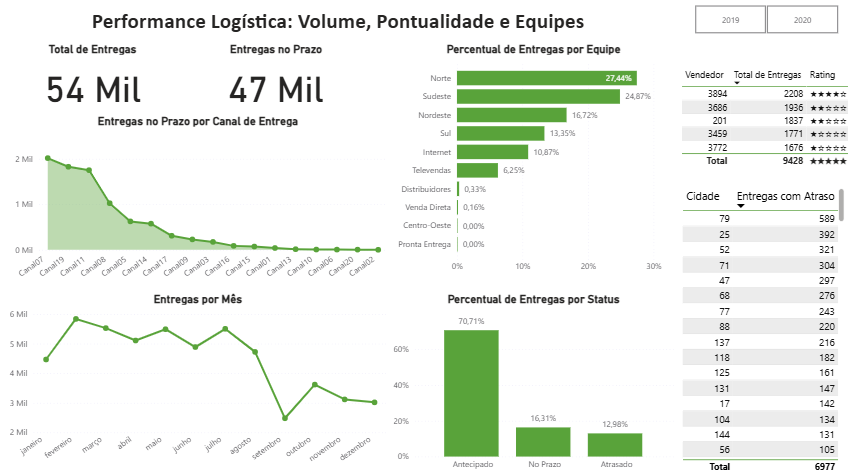

This screenshot's page, from the dashboard's own definition file:
{"tool":"powerbi","page":{"name":"Dashboard","canvas":[1280,720],"ordinal":0},"visuals":[{"type":"areaChart","title":"Entregas no Prazo por Canal de Entrega","fields":{"Category":["Logistica.Canal_Entrega"],"Y":["Medidas.TotalEntregas"]},"box":[12.4,179.8,573.4,265],"z":0},{"type":"barChart","title":"Percentual de Entregas por Equipe","fields":{"Category":["Logistica.Equipe_Entrega"],"Y":["Medidas.TotalEntregas"]},"box":[585.8,71.3,429.2,353.3],"z":1000},{"type":"lineChart","title":"Entregas por Mês","fields":{"Category":["Logistica.Data_Entrega_Realizada.Variation.Hierarquia de datas.Mês"],"Y":["Medidas.TotalEntregas"]},"box":[12.4,444.7,573.4,275.8],"z":2000},{"type":"tableEx","fields":{"Values":["Logistica.ID_Vendedor","Medidas.TotalEntregas","Medidas.Classificação por estrelas TotalEntregas"]},"box":[1015.8,106.1,264.4,179.3],"z":3000},{"type":"tableEx","fields":{"Values":["Logistica.ID_Cidade","Medidas.TotalEntregas"]},"box":[1017.3,285.3,252.4,434.7],"z":4000},{"type":"columnChart","title":"Percentual de Entregas por Status","fields":{"Category":["Logistica.Status_Entrega"],"Y":["Medidas.TotalEntregas"]},"box":[585.8,444.7,429.2,275.8],"z":5000},{"type":"card","title":"Total de Entregas","fields":{"Values":["Medidas.TotalEntregas"]},"box":[12.4,71.3,258.8,108.5],"z":6000},{"type":"card","title":"Entregas no Prazo","fields":{"Values":["Medidas.TotalEntregasPrazo"]},"box":[288.2,71.3,254.1,108.5],"z":7000},{"type":"slicer","fields":{"Values":["Logistica.Data_Entrega_Realizada.Variation.Hierarquia de datas.Ano"]},"box":[1015.8,10.5,262.9,55.3],"z":8000},{"type":"textbox","box":[12.4,17,991.8,49.6],"z":9000}]}

Visuals, with their boxes in screenshot pixels (x1, y1, x2, y2), scaled from the page's 1280x720 canvas onto the 848x474 screenshot:
"Entregas no Prazo por Canal de Entrega" areaChart: bbox(8, 118, 388, 293)
"Percentual de Entregas por Equipe" barChart: bbox(388, 47, 672, 280)
"Entregas por Mês" lineChart: bbox(8, 293, 388, 473)
tableEx - Logistica.ID_Vendedor x Medidas.TotalEntregas: bbox(673, 70, 847, 188)
tableEx - Logistica.ID_Cidade x Medidas.TotalEntregas: bbox(674, 188, 841, 473)
"Percentual de Entregas por Status" columnChart: bbox(388, 293, 672, 473)
"Total de Entregas" card: bbox(8, 47, 180, 118)
"Entregas no Prazo" card: bbox(191, 47, 359, 118)
slicer - Logistica.Data_Entrega_Realizada.Variation.Hierarquia de datas.Ano: bbox(673, 7, 847, 43)
textbox: bbox(8, 11, 665, 44)
